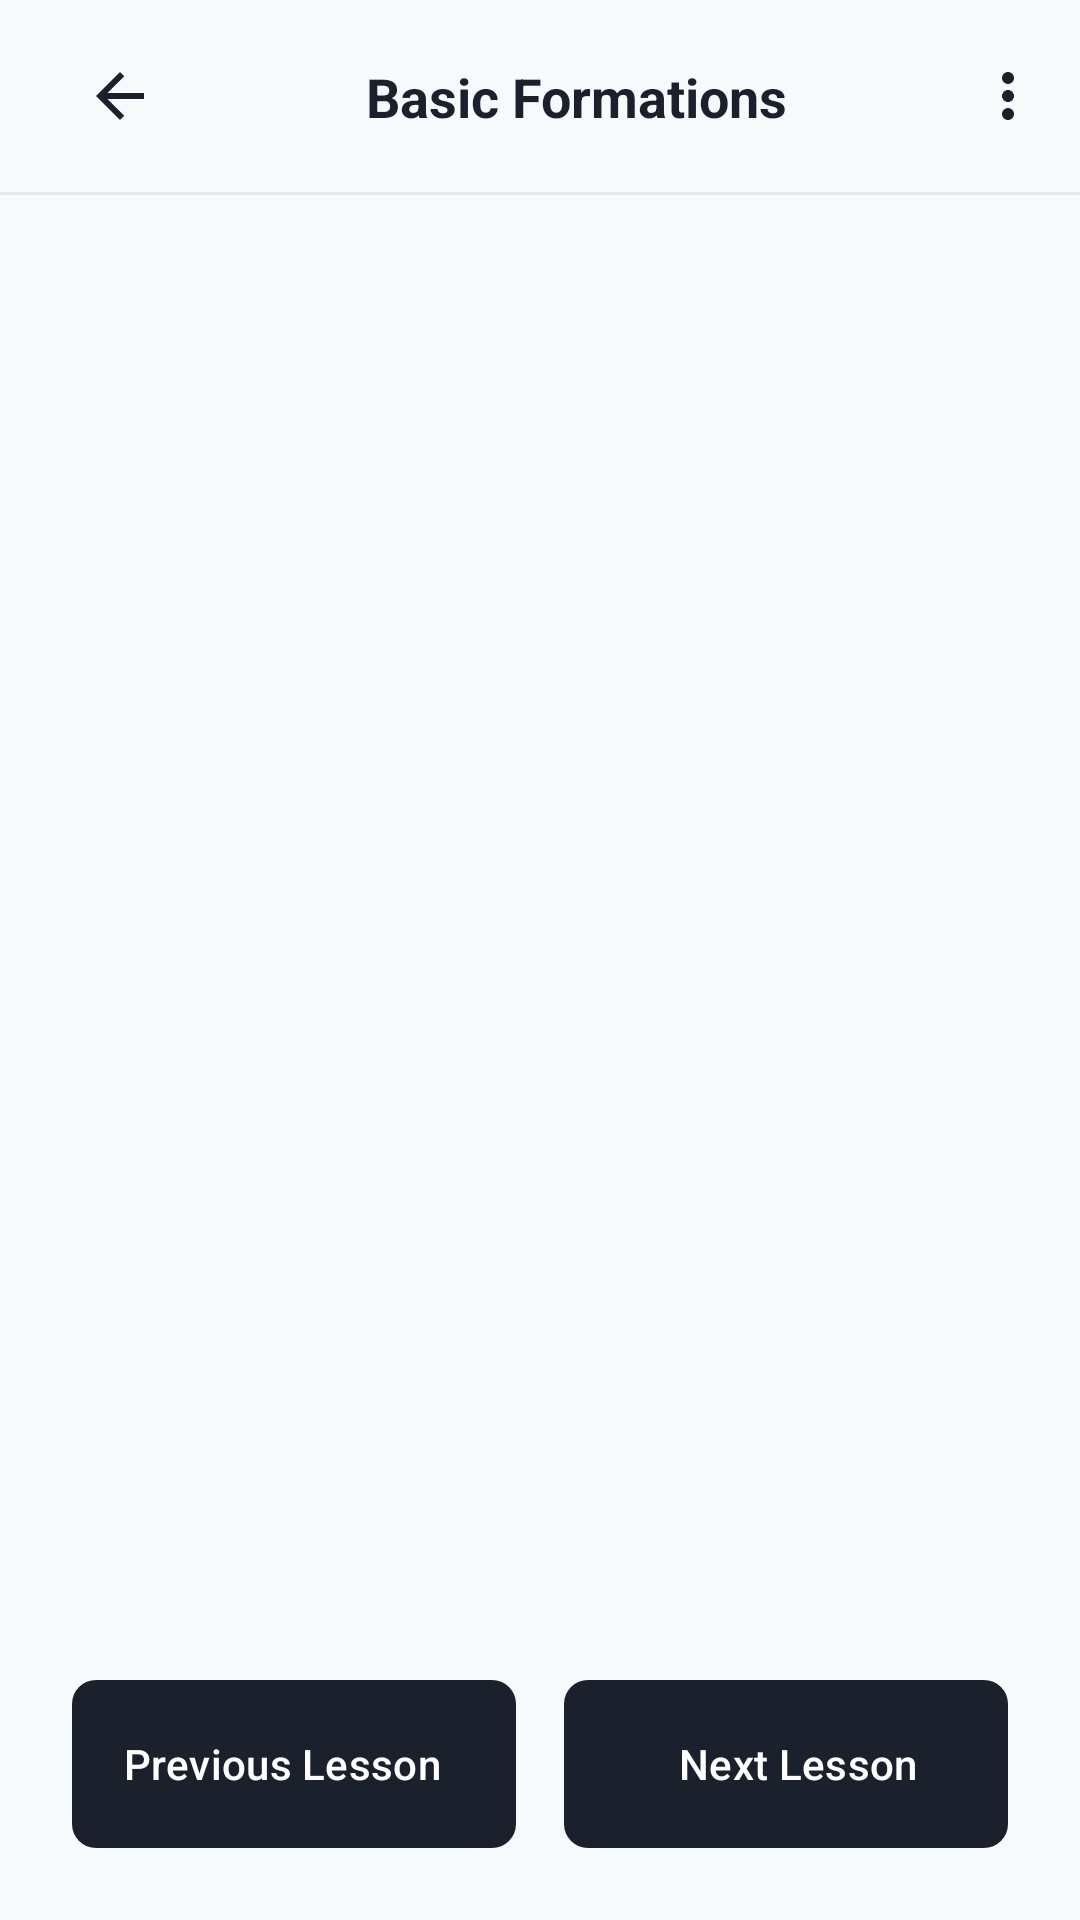

Icon bounding boxes for this 1080px×1920px phone screenshot, format (x1,y1,x2,y2):
Back: (96,72,144,120)
Menu: (1002,72,1014,120)
